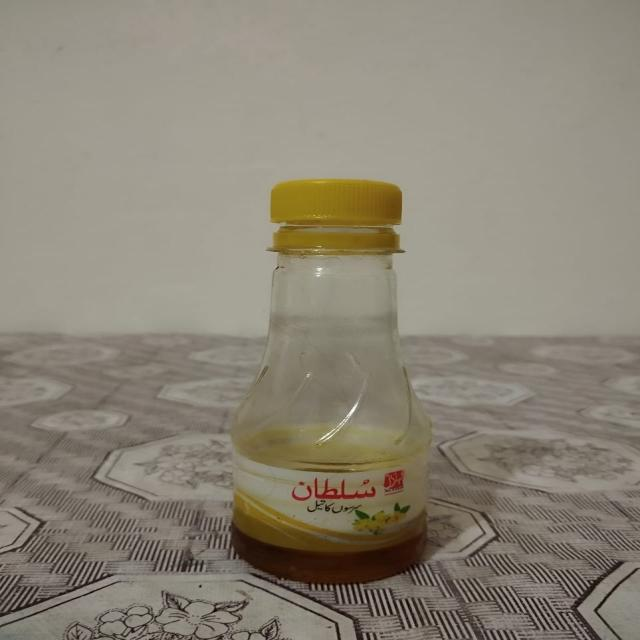bottle: (195, 178, 444, 592)
cap: (256, 182, 399, 266)
label: (215, 448, 417, 582)
